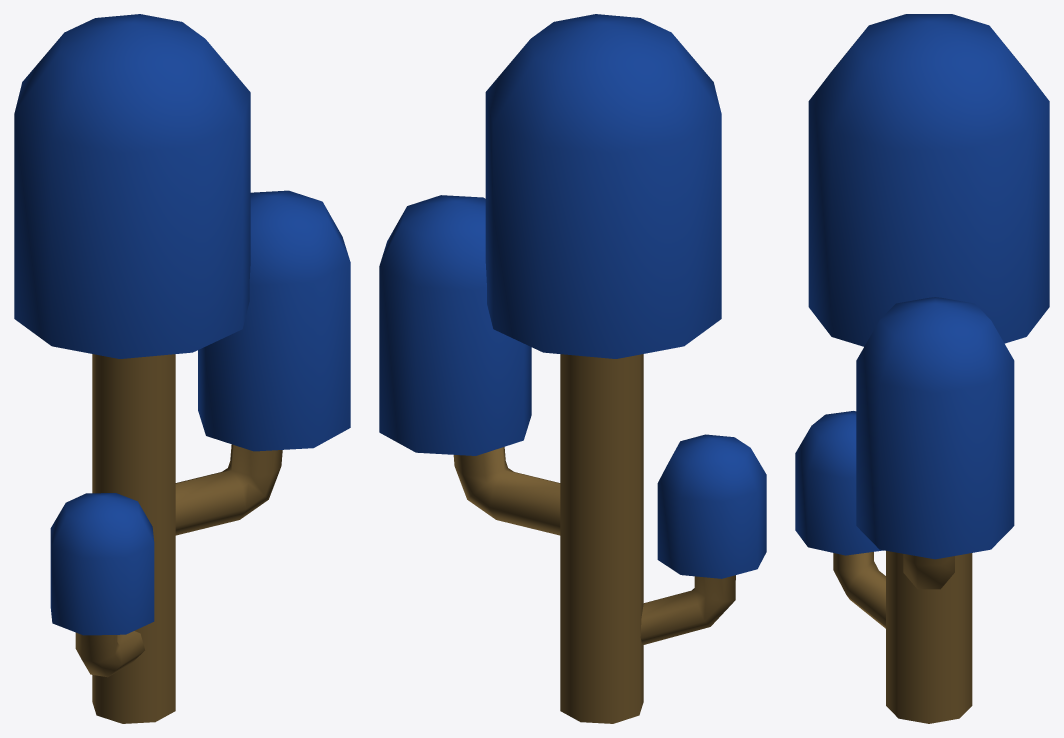
Rendered from TreeLarge.FBX.
3 views of the same model, side by side, from view 1: azimuth 30°, elevation 25°; view 2: azimuth 150°, elevation 25°; view 3: azimuth 270°, elevation 25° (orthographic).
Visible parts, largest first — view 1: Cylinder003; view 2: Cylinder003; view 3: Cylinder003.
Part boxes in pixels (x1=…): Cylinder003: x1=14, y1=14, x2=350, y2=723; Cylinder003: x1=379, y1=14, x2=766, y2=723; Cylinder003: x1=795, y1=14, x2=1049, y2=723.
Bounding box in the file's own units: 287 × 567 × 192.
